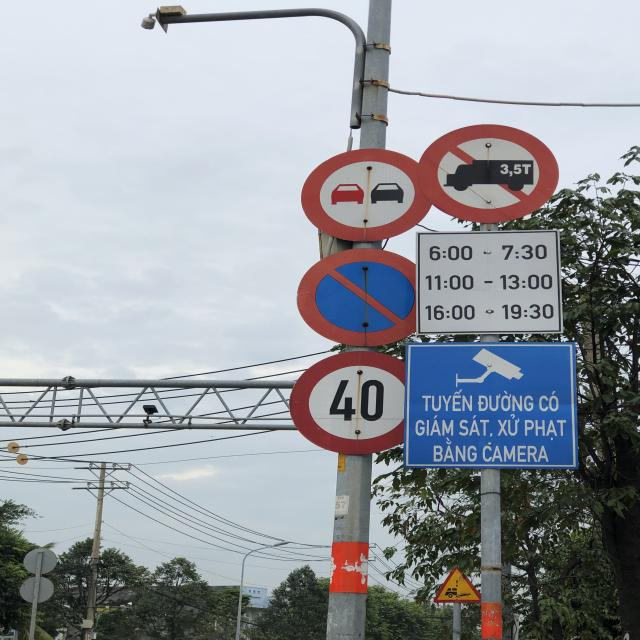Bien bao cam vuot: (298, 146, 435, 241)
